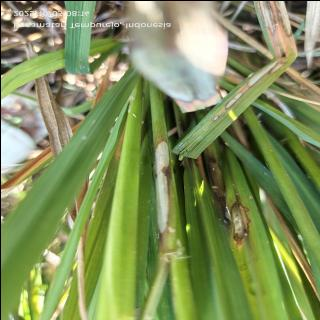Busuk-Pelepah: (150, 136, 172, 261), (200, 152, 224, 222), (228, 202, 247, 243)
